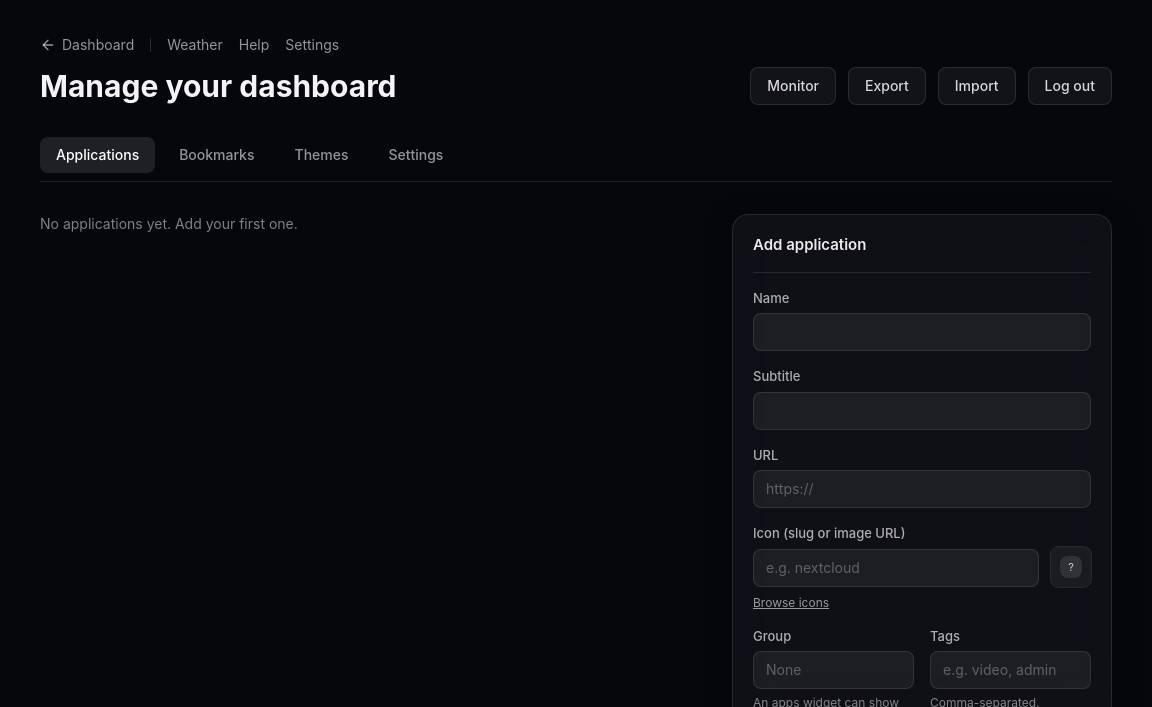
Test case: AdminDashboard tabs (#317) › still lists an app added before switching tabs and back
Type "Jellyfin" into the field labelled "Name". click: (922, 332)
box: left=753, top=313, right=1091, bottom=351
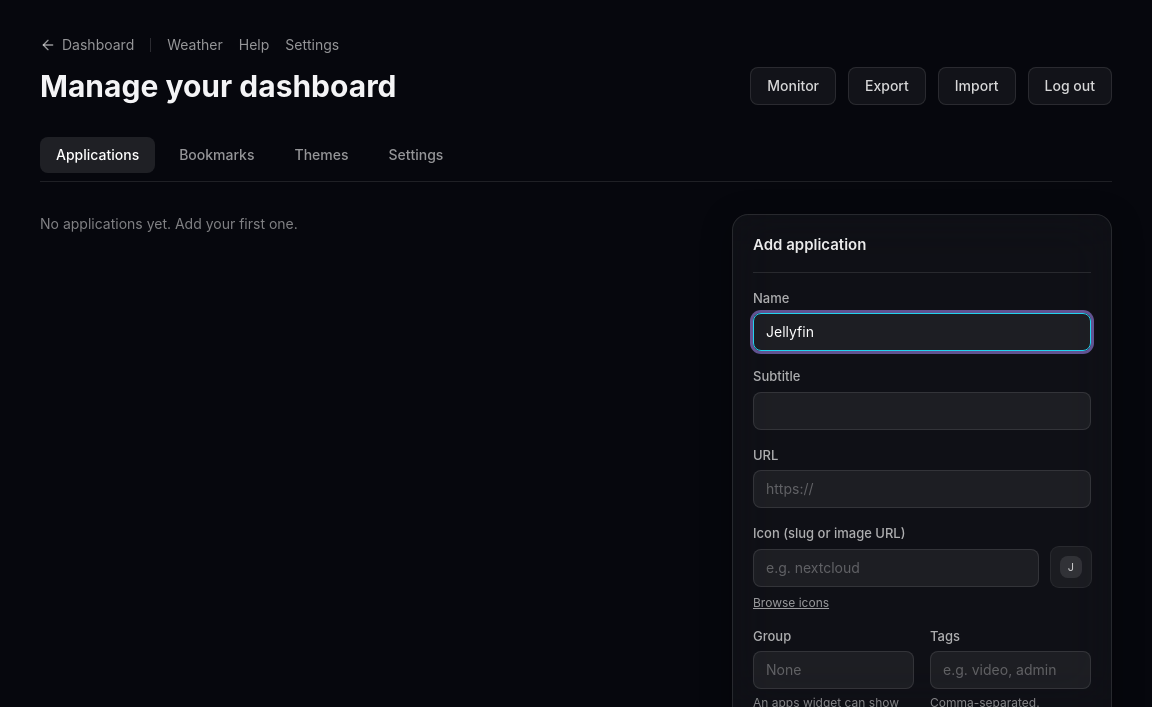
Type "http://jf.lan" into the field labelled "URL". click: (922, 489)
box: left=753, top=470, right=1091, bottom=508
(page scrolled)
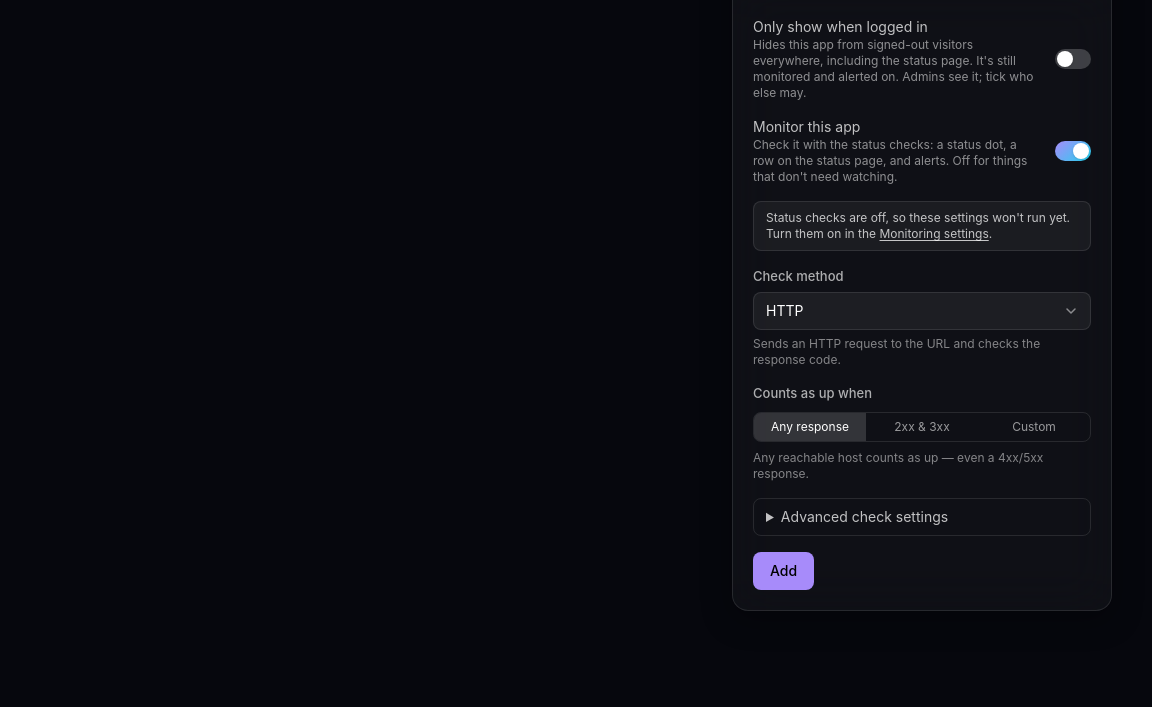
Click the button "Add". click: (784, 570)
box: left=753, top=552, right=814, bottom=590
(page scrolled)
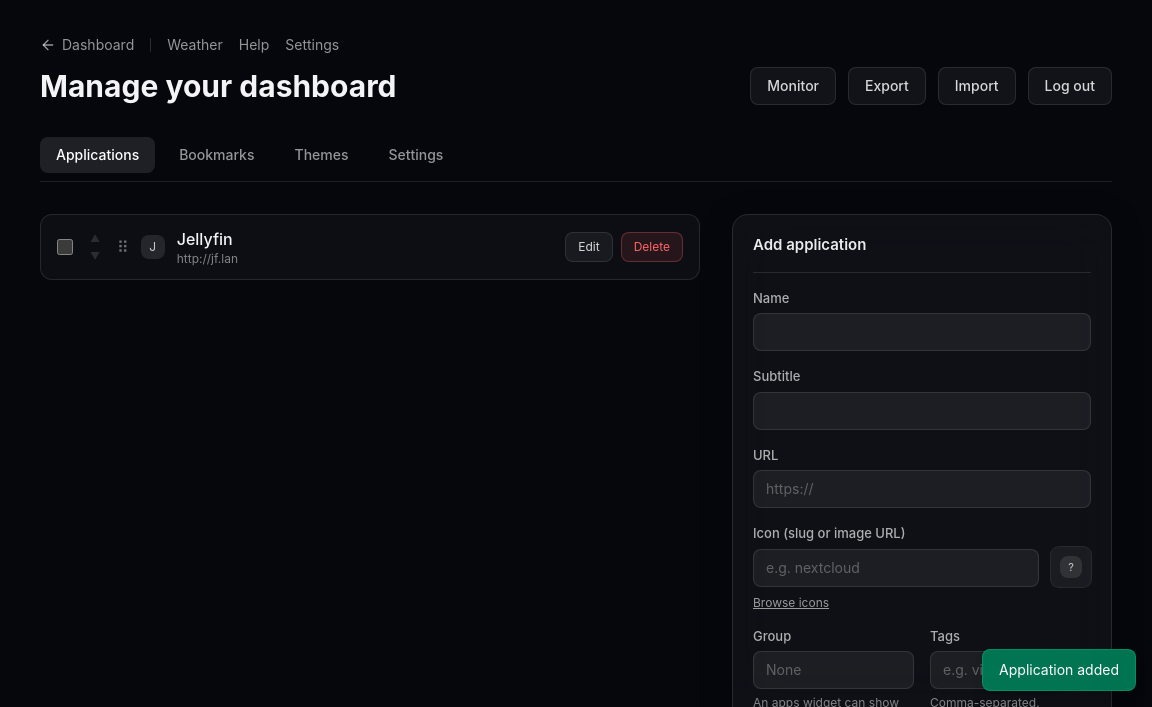
Now the text "Application added" is shown, box left=999, top=660, right=1119, bottom=680
Click the tab "Bookmarks". click: (217, 155)
box: left=163, top=137, right=270, bottom=173
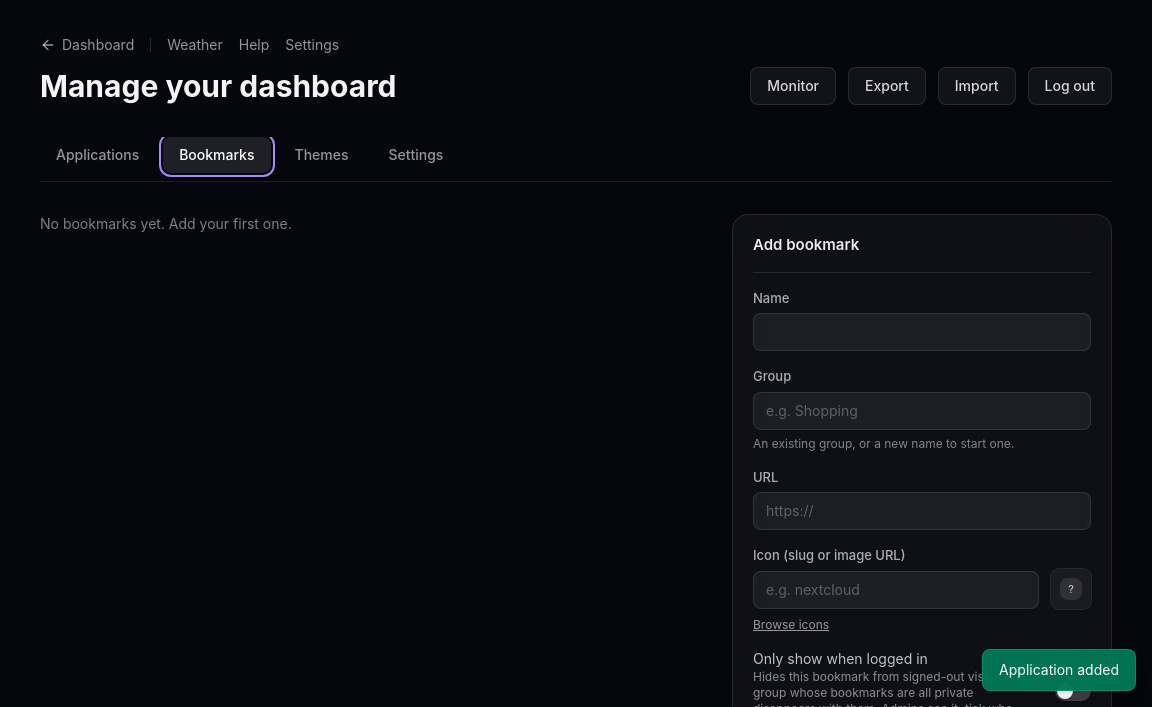
Click the tab "Applications". click: (98, 155)
box: left=40, top=137, right=155, bottom=173
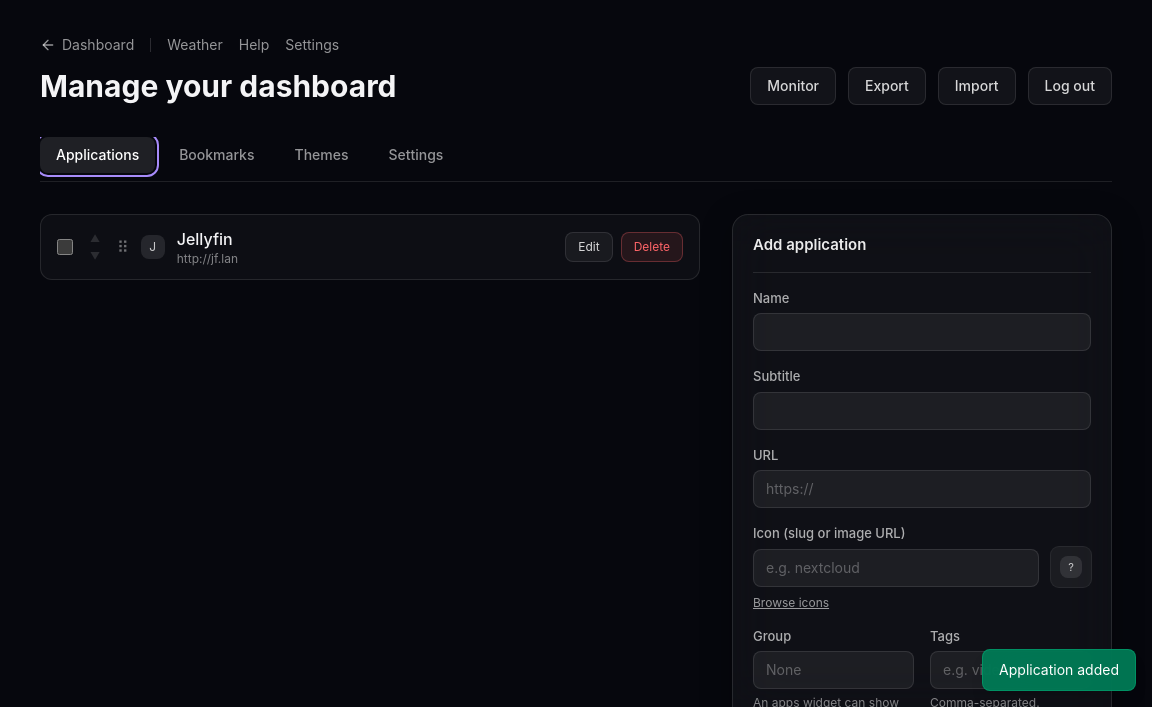
Now the text "Jellyfin" is shown, box left=177, top=227, right=233, bottom=251
